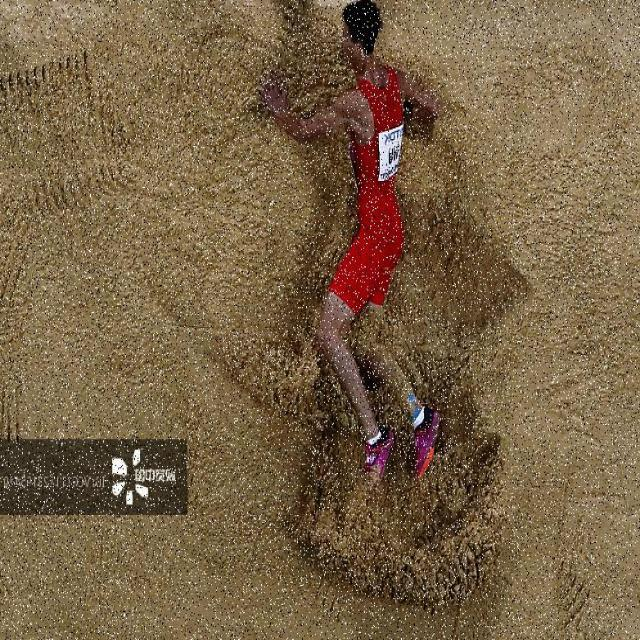fall: (264, 2, 441, 482)
